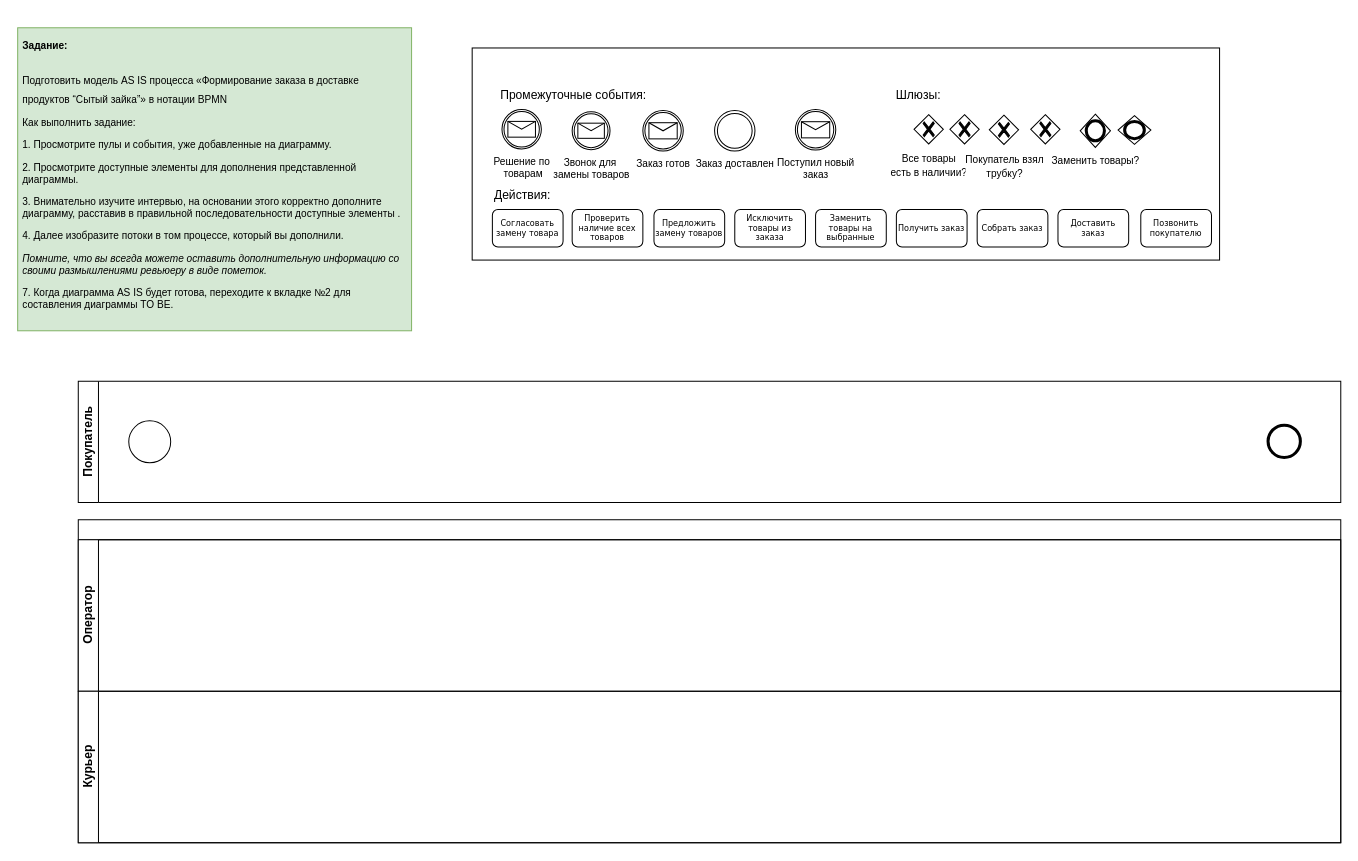
This 1358x861 diagram has some shape labels left out. The shapes that lost their labels are listed below. From the top down, each one's box as (x1, y1, x2, y2) in pixels, then its label:
(471, 47, 1220, 260): Элементы для составления диаграммы
(128, 420, 171, 463): Заказ оформлен
(1267, 424, 1300, 458): Заказ получен
(77, 519, 1341, 843): Доставка продуктов «Сытый зайка»
